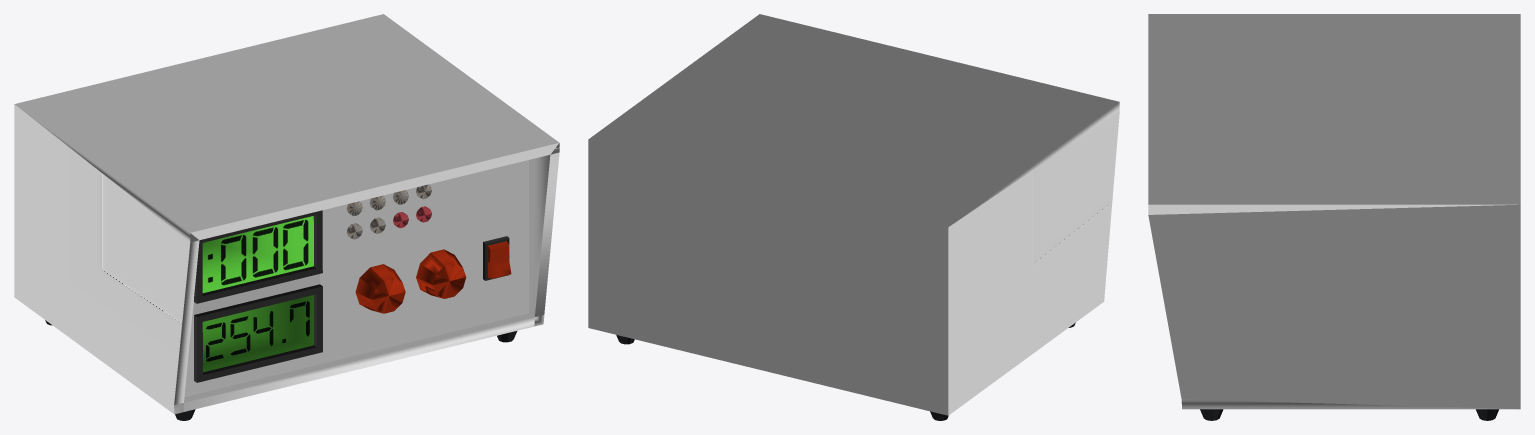
File: device.fbx
The picture shows the model from 3 angles, left to right: view 1: azimuth 30°, elevation 25°; view 2: azimuth 150°, elevation 25°; view 3: azimuth 270°, elevation 25°; orthographic projection. The views are drawn at different scales.
Parts seen in each view (by area): view 1: Device; view 2: Device; view 3: Device.
Part boxes in pixels (x1,y1,x2,y2): Device: [14, 14, 559, 420]; Device: [588, 14, 1119, 420]; Device: [1148, 14, 1520, 420].
Size of the model in its own units: 40.1 by 22 by 33.
Materials: 1 (1 with a texture image).
